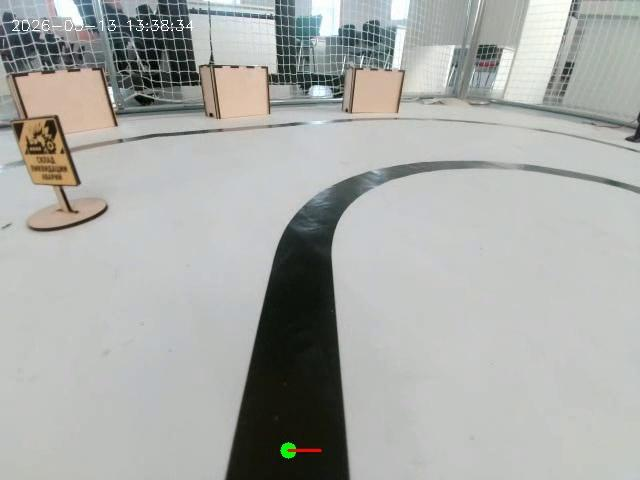industrial: (0, 109, 97, 209)
